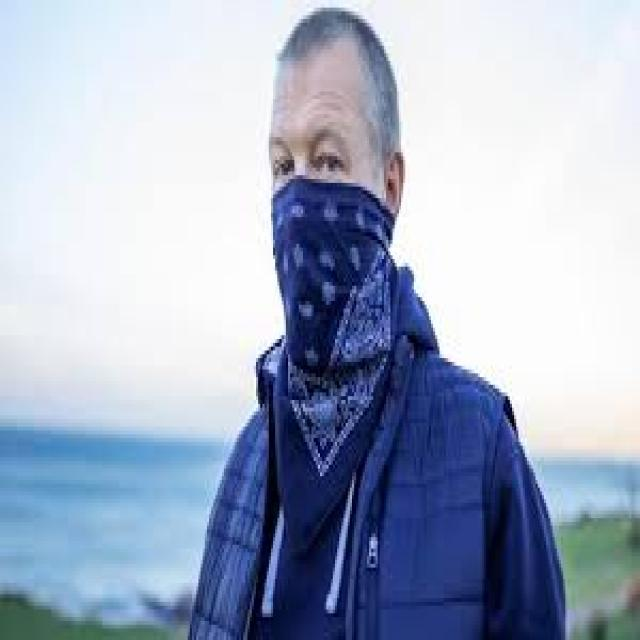person-with-mask: (93, 0, 613, 640)
